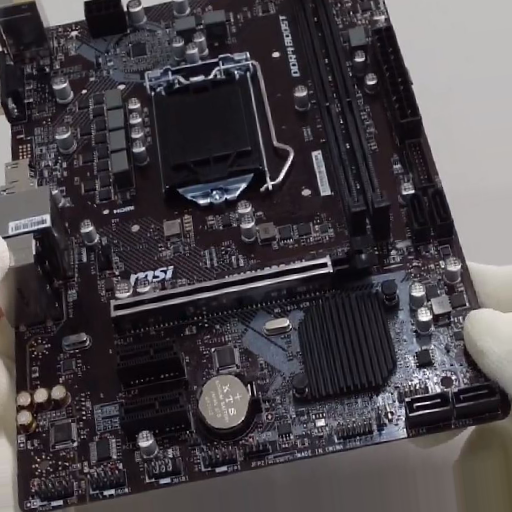CPU: (145, 50, 268, 204)
GPU: (111, 234, 376, 331)
MOTHERBOARD: (1, 1, 505, 507)
RAM: (288, 1, 391, 235)
